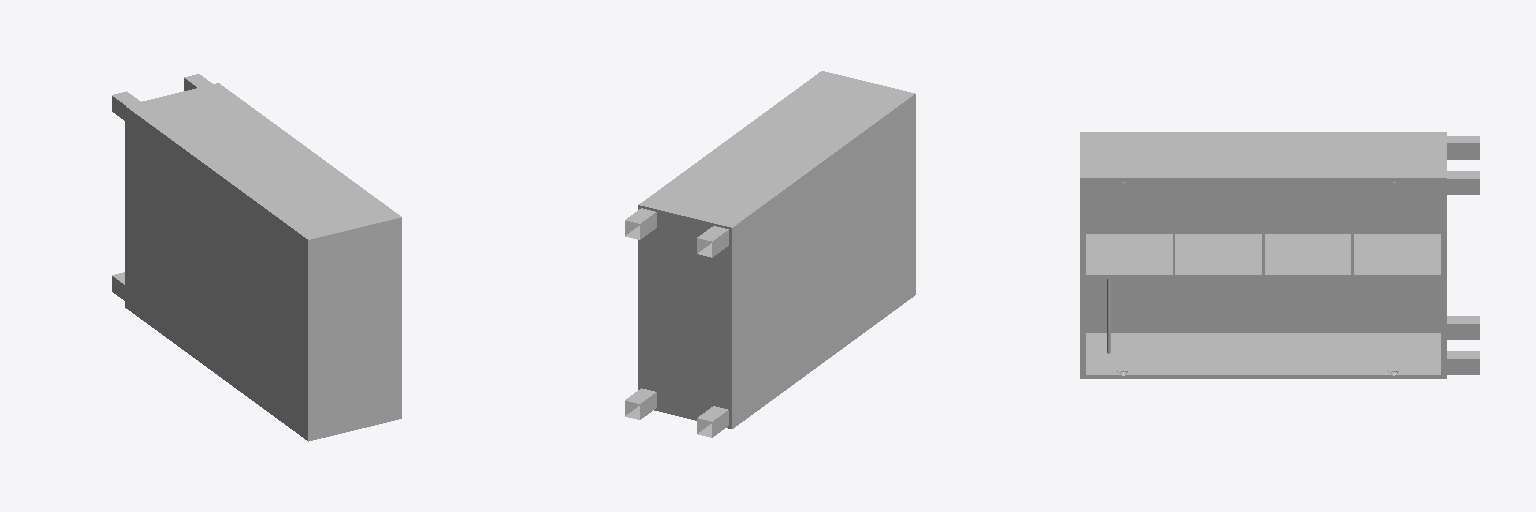
The model's file is closet.obj.
The picture shows the model from 3 angles: view 1: azimuth 30°, elevation 25°; view 2: azimuth 150°, elevation 25°; view 3: azimuth 270°, elevation 25°; orthographic projection.
Visible parts, largest first — view 1: Closet; view 2: Closet; view 3: Closet.
Part boxes in pixels (x1,y1,x2,y2): Closet: (112, 74, 401, 441); Closet: (625, 71, 915, 437); Closet: (1080, 132, 1479, 378).
Size of the model in its own units: 0.4949 by 1 by 1.8.